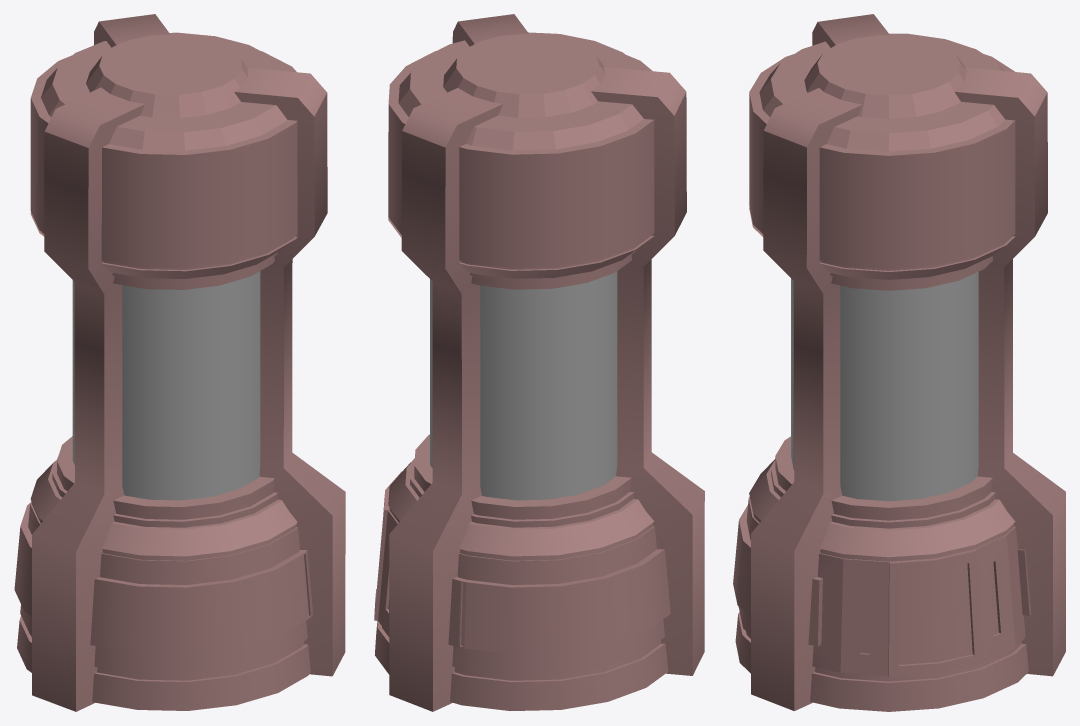
Rendered from SM_Battery_Door.fbx.
3 renders of one model, left to right at view 1: azimuth 30°, elevation 25°; view 2: azimuth 150°, elevation 25°; view 3: azimuth 270°, elevation 25°, orthographic.
Visible parts, largest first — view 1: SM_Battery_Door; view 2: SM_Battery_Door; view 3: SM_Battery_Door.
Part boxes in pixels (left/top/right/bottom): SM_Battery_Door: left=14, top=14, right=345, bottom=711; SM_Battery_Door: left=374, top=14, right=704, bottom=711; SM_Battery_Door: left=733, top=14, right=1065, bottom=711.
Size of what is drawn, in the model's own units: 97.94 by 191 by 98.76.
